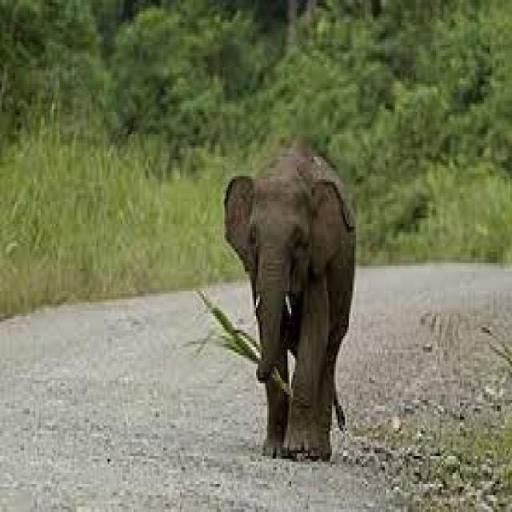Elephant: (222, 134, 356, 462)
